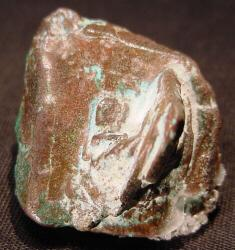copper: (15, 9, 226, 240), (16, 8, 175, 224), (92, 65, 227, 240)
